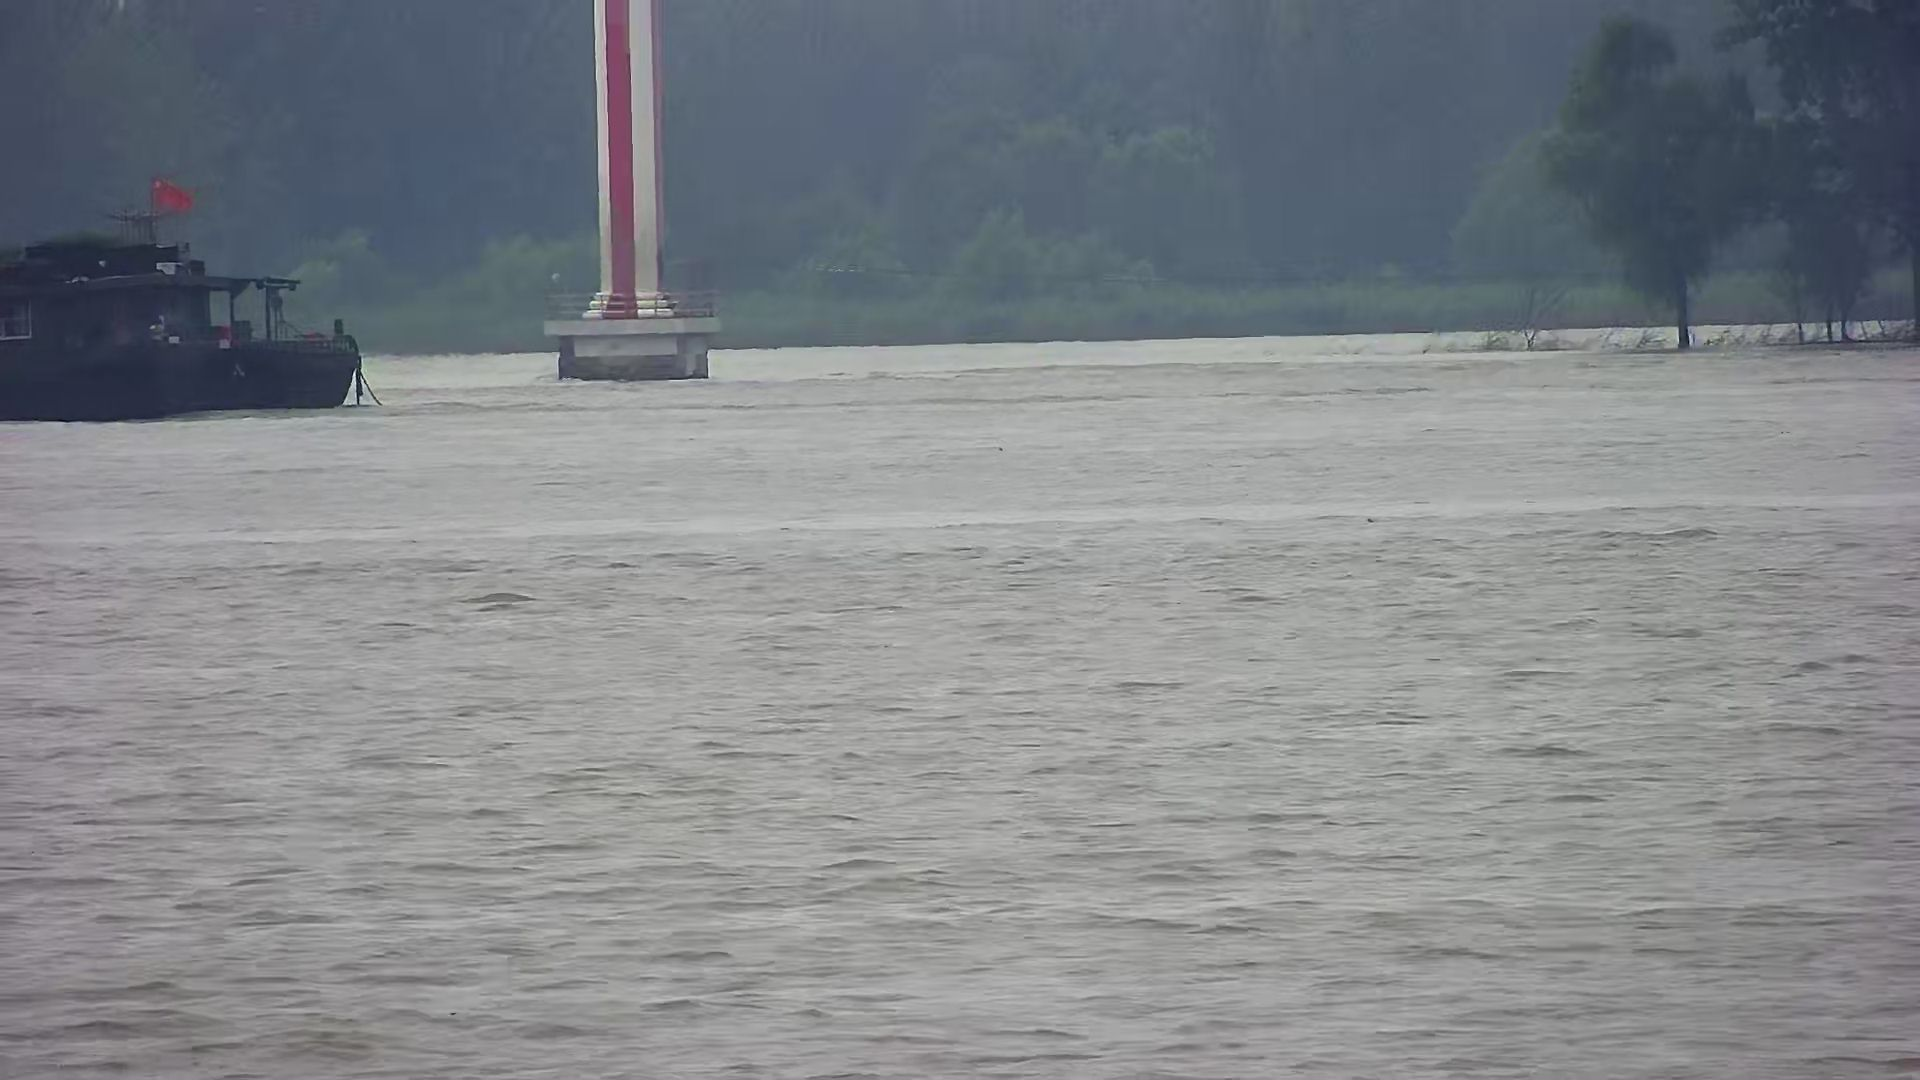platform: (545, 3, 721, 381)
ship: (1, 215, 371, 419)
tree: (1532, 13, 1774, 351), (1718, 1, 1920, 347)
